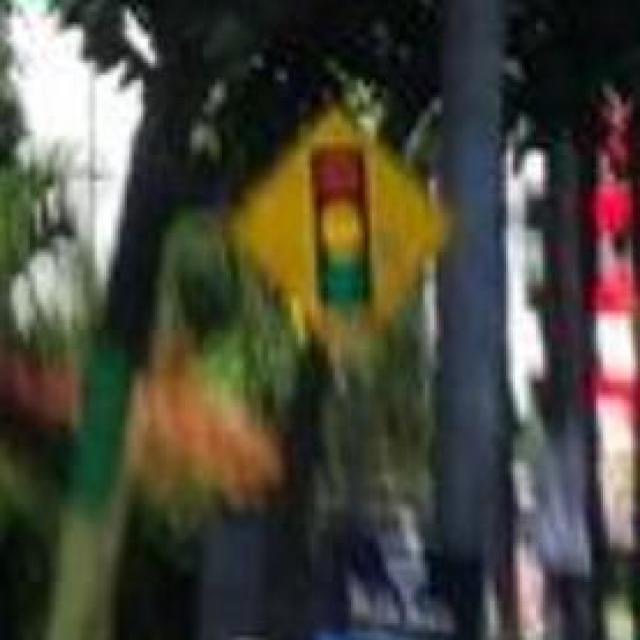traffic sign: (238, 107, 439, 338)
